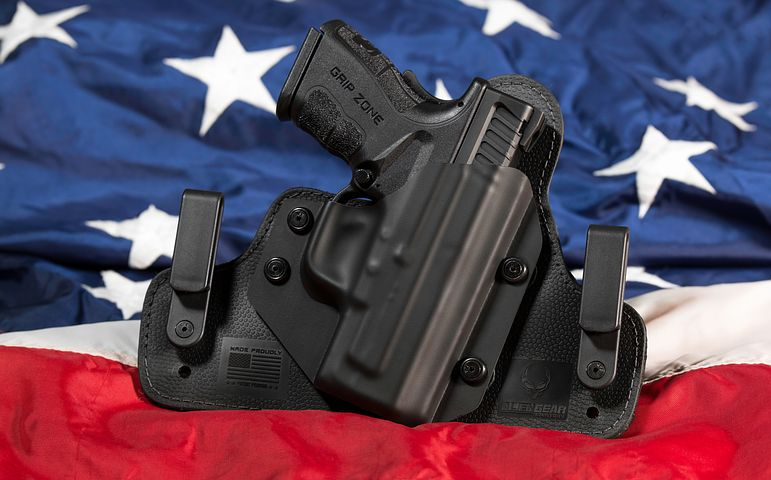gun: (268, 12, 552, 425)
